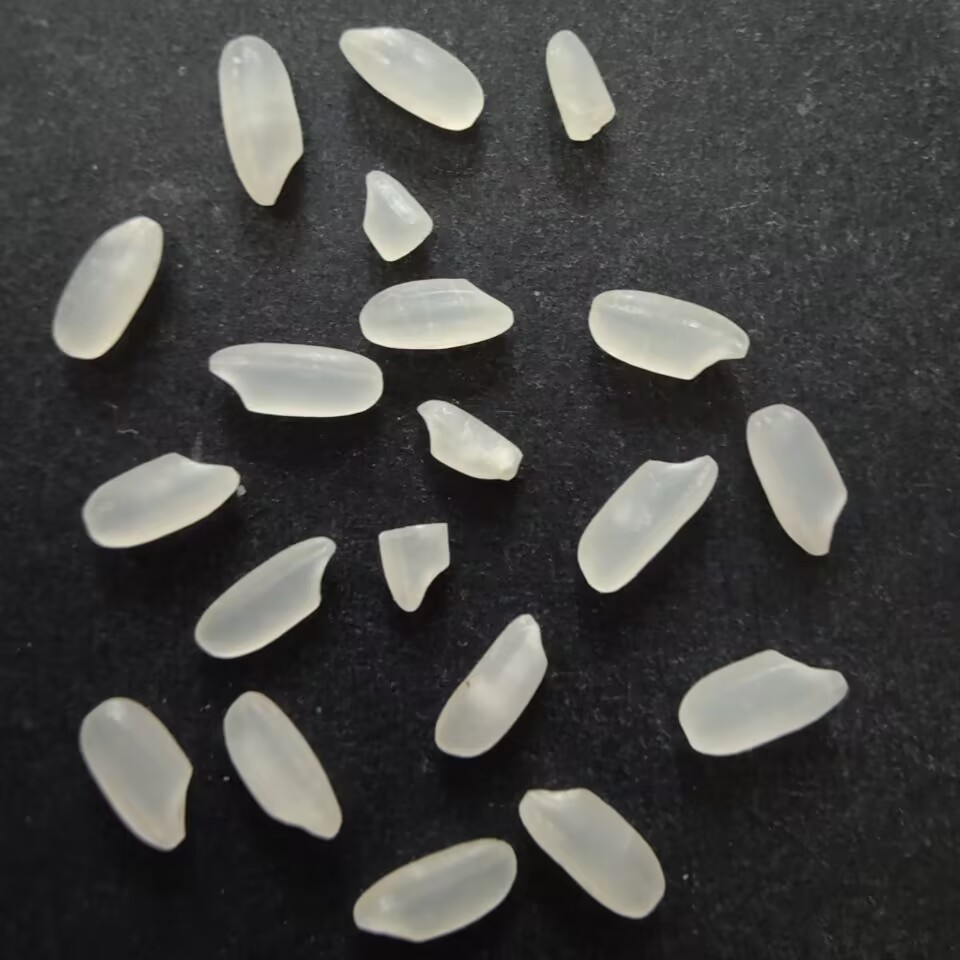broken: (415, 396, 527, 489), (542, 25, 619, 150), (376, 518, 458, 616), (354, 168, 436, 266)
rice: (576, 450, 721, 595), (515, 787, 669, 923), (75, 695, 197, 859), (217, 689, 346, 843), (190, 532, 340, 664), (347, 833, 522, 945), (676, 645, 852, 754), (432, 609, 554, 762), (49, 210, 167, 364), (78, 445, 243, 551), (745, 403, 851, 561), (336, 25, 489, 134), (216, 30, 308, 211), (586, 287, 754, 383), (205, 339, 386, 420), (353, 274, 518, 350)
